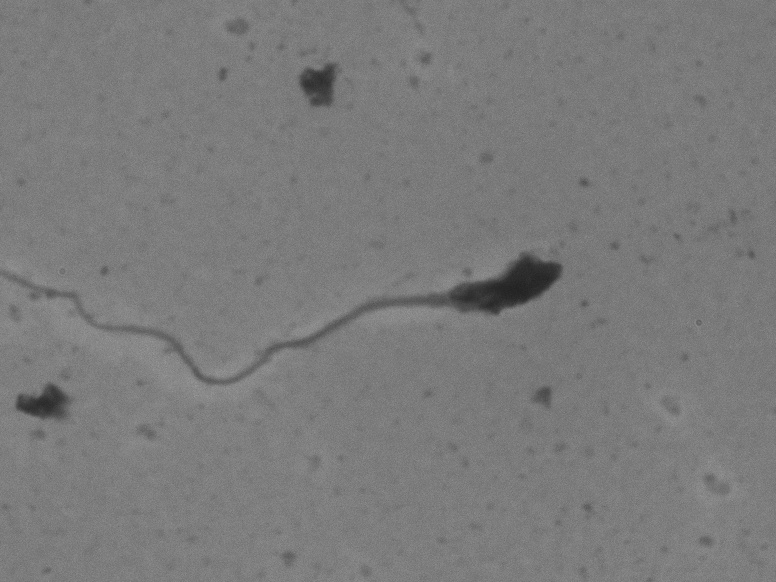Abnormal: (27, 197, 597, 407)
